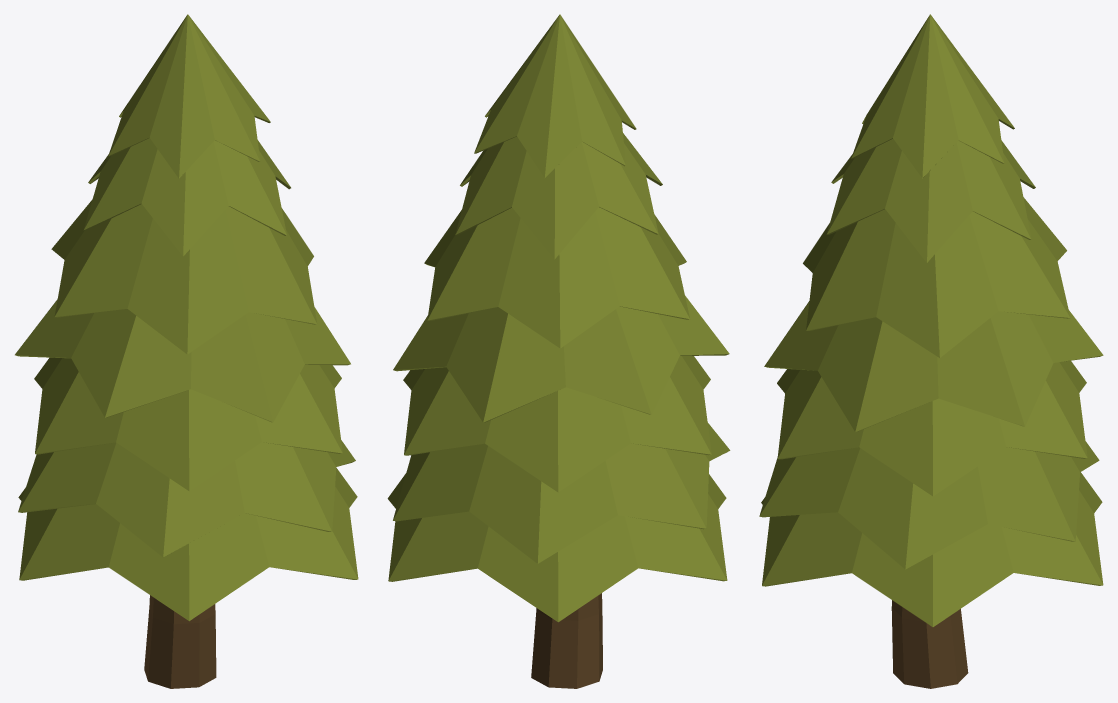
File: Tree_22.fbx
3 renders of one model, left to right at view 1: azimuth 30°, elevation 25°; view 2: azimuth 150°, elevation 25°; view 3: azimuth 270°, elevation 25°, orthographic.
Parts seen in each view (by area): view 1: Tree_22; view 2: Tree_22; view 3: Tree_22.
Boxes of the visible parts, bbox=[...] form: Tree_22: bbox=[15, 14, 358, 688]; Tree_22: bbox=[387, 14, 730, 688]; Tree_22: bbox=[759, 14, 1103, 688].
Bounding box in the file's own units: 231 × 429 × 202.
